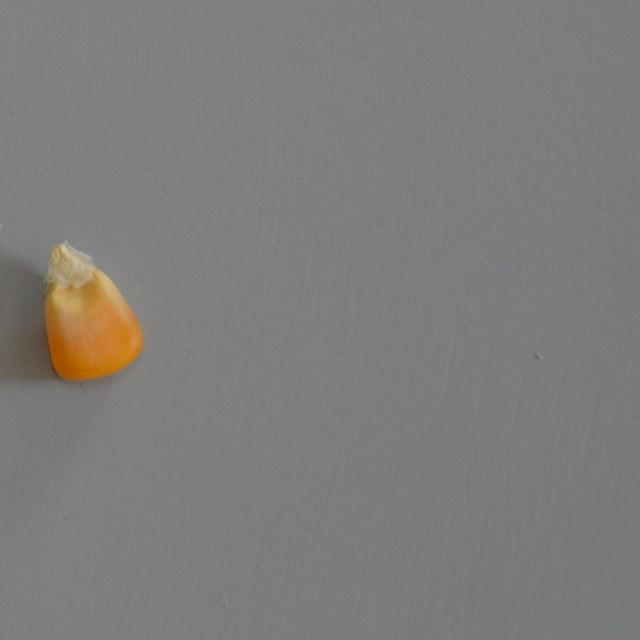entero: (30, 230, 148, 386)
